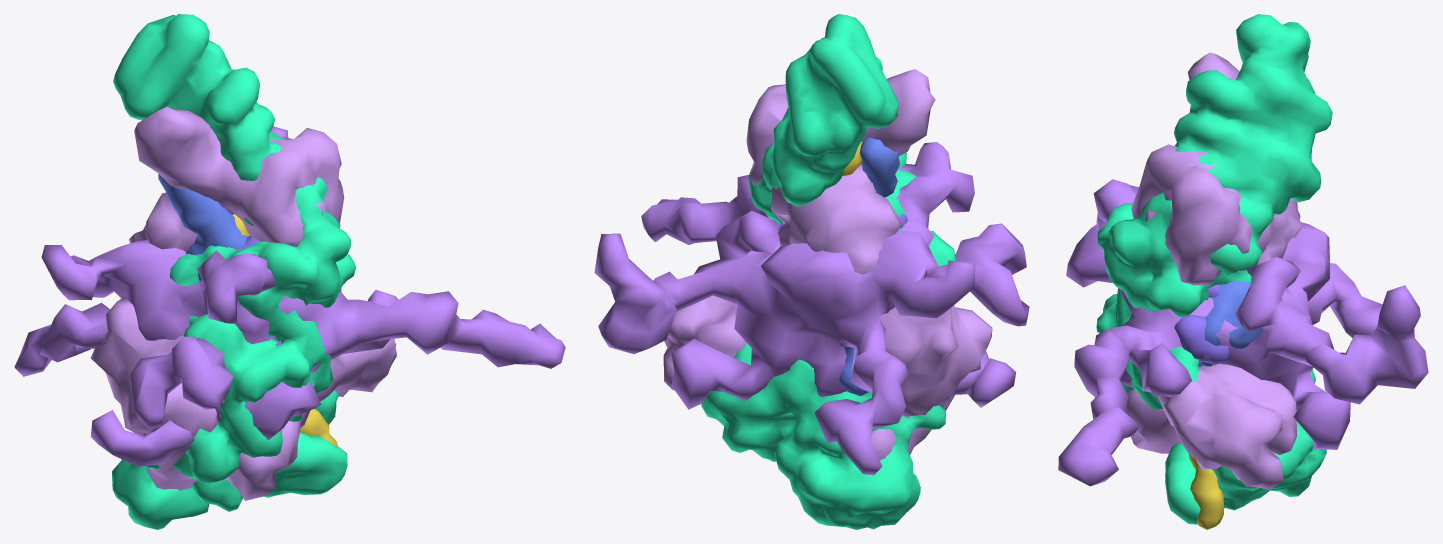
File: cohesion_pdb.glb
3 renders of one model, left to right at view 1: azimuth 30°, elevation 25°; view 2: azimuth 150°, elevation 25°; view 3: azimuth 270°, elevation 25°, orthographic. The views are drawn at different scales.
Parts seen in each view (by area): view 1: coh_separase, coh_histones, coh_stag1, coh_smc1, coh_securin; view 2: coh_histones, coh_separase, coh_stag1, coh_smc1; view 3: coh_histones, coh_separase, coh_stag1, coh_smc1, coh_smc3, coh_securin.
Boxes of the visible parts, box(x1,y1,x2,y2) form: coh_separase: box(112, 14, 356, 529); coh_histones: box(14, 126, 565, 466); coh_stag1: box(90, 106, 396, 500); coh_smc1: box(158, 174, 247, 255); coh_securin: box(232, 214, 337, 446); coh_histones: box(594, 142, 1029, 475); coh_separase: box(701, 14, 955, 529); coh_stag1: box(663, 69, 992, 460); coh_smc1: box(778, 137, 900, 396); coh_histones: box(1058, 179, 1428, 486); coh_separase: box(1096, 14, 1332, 524); coh_stag1: box(1125, 52, 1303, 489); coh_smc1: box(1198, 270, 1262, 366); coh_smc3: box(1174, 284, 1230, 364); coh_securin: box(1189, 454, 1223, 529).
Size of the model in its own units: 15.58 by 17.57 by 12.16.
